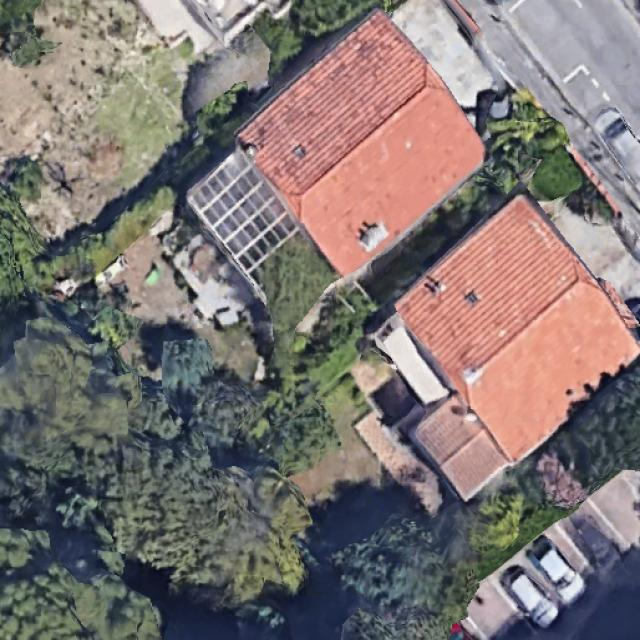maison: (226, 8, 502, 284), (384, 188, 640, 465), (405, 391, 512, 501)
